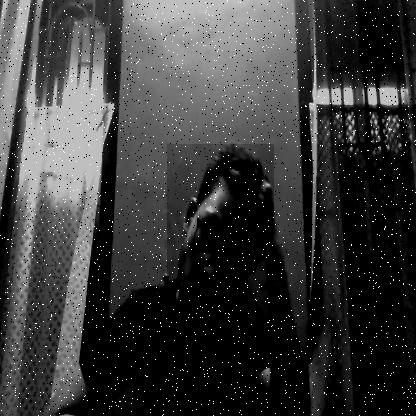Distracted: (167, 144, 274, 334)
